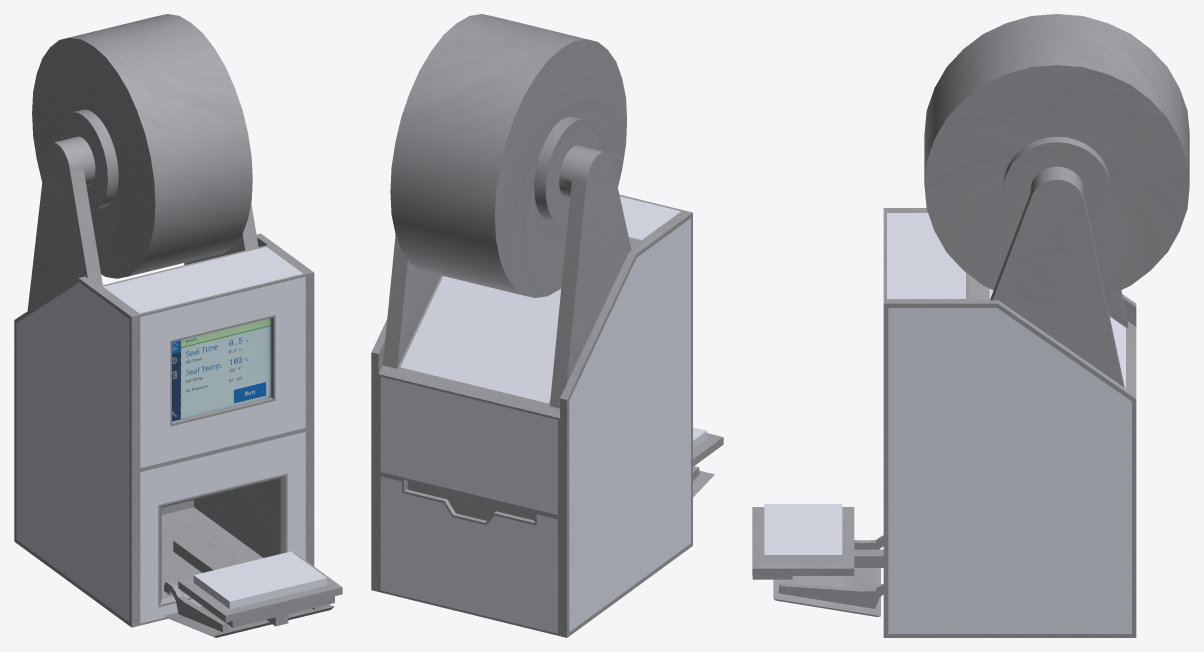
3 views of the same model, side by side, from view 1: azimuth 30°, elevation 25°; view 2: azimuth 150°, elevation 25°; view 3: azimuth 270°, elevation 25° (orthographic). The views are drawn at different scales.
Parts seen in each view (by area): view 1: 039; view 2: 039; view 3: 039.
Part boxes in pixels (box(x1,y1,x2,y2)): 039: box(14, 14, 342, 637); 039: box(371, 14, 723, 637); 039: box(752, 14, 1189, 637).
Size of the model in its own units: 54.13 by 145 by 105.
3 materials, 2 textured.
